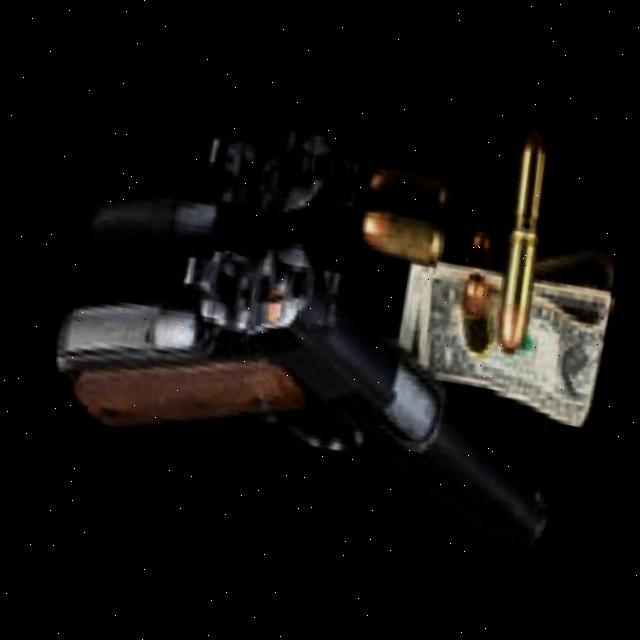gun: (31, 208, 584, 558)
